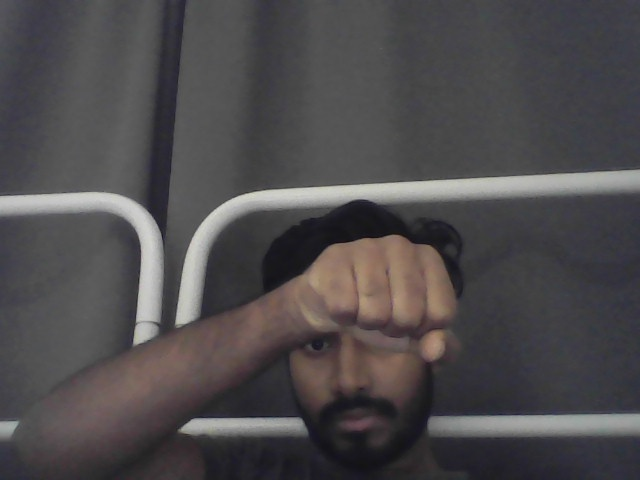yes: (296, 232, 467, 369)
